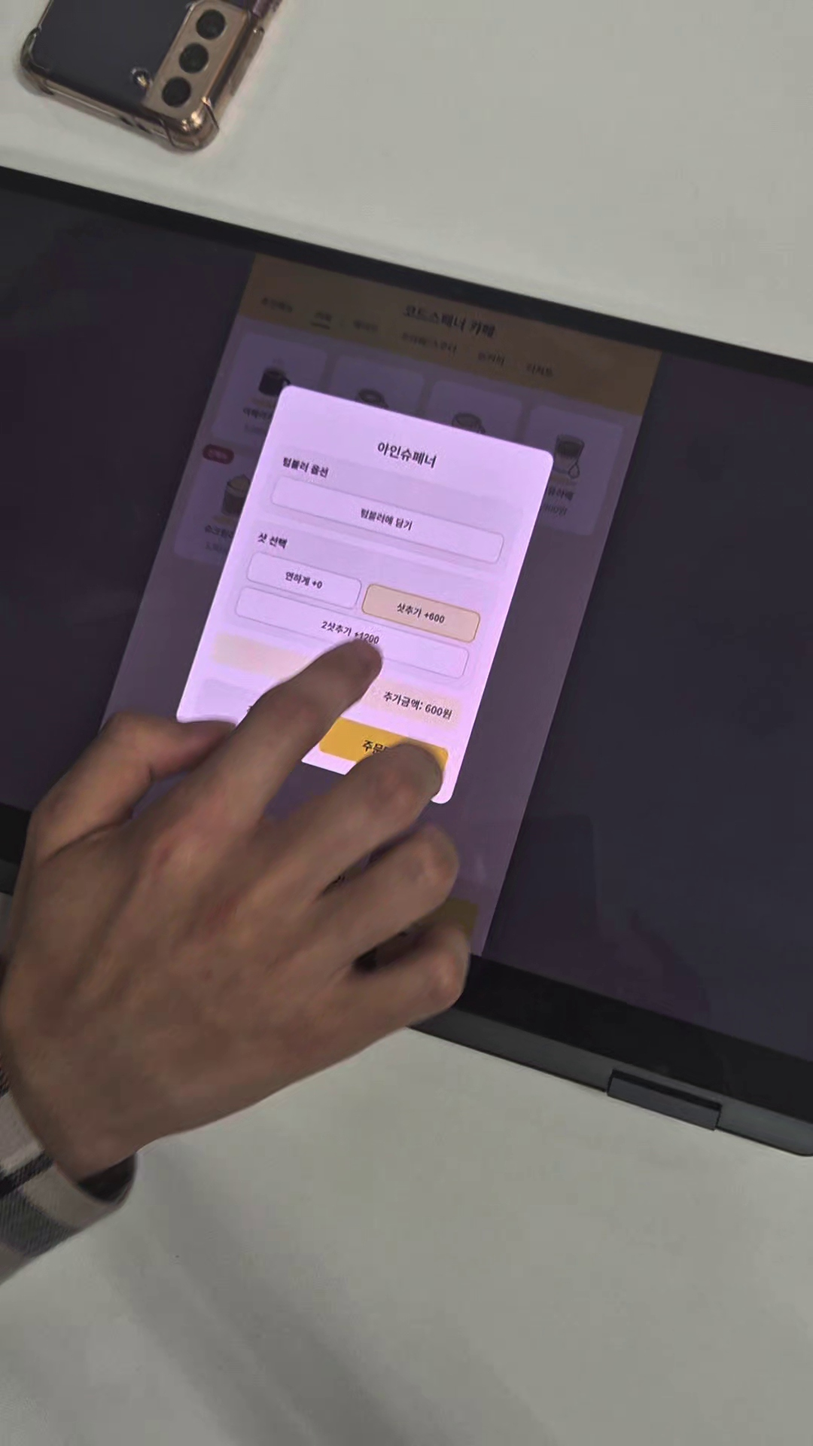menu_name: (368, 432, 446, 477)
option_button: (236, 589, 468, 680), (272, 475, 505, 563), (359, 581, 480, 648), (247, 552, 361, 611)
popup_modal: (169, 381, 555, 808)
